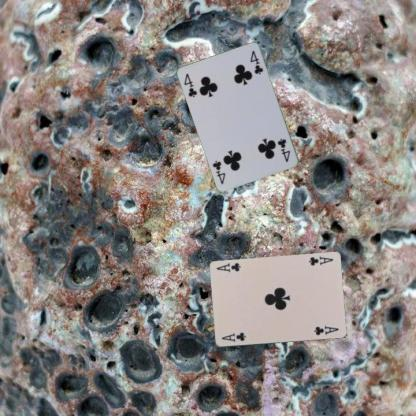4c: (181, 71, 199, 99), (275, 136, 293, 163)
Ac: (306, 254, 335, 267), (219, 330, 247, 343)
